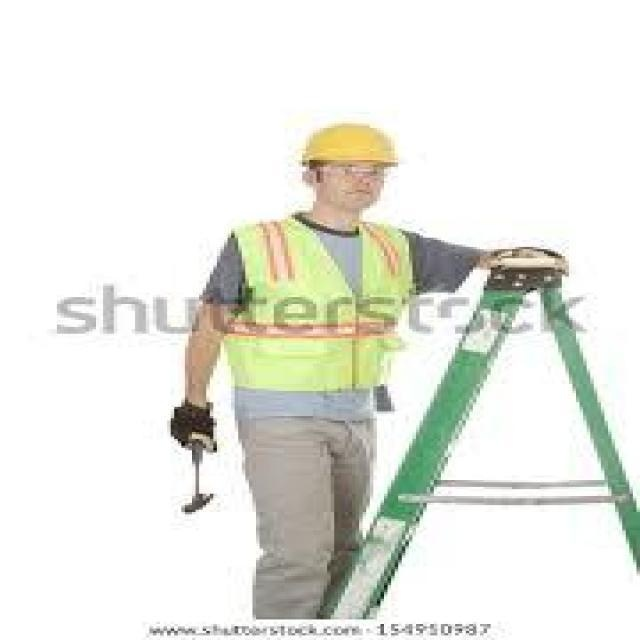Arnes_seguridad: (215, 214, 414, 398)
